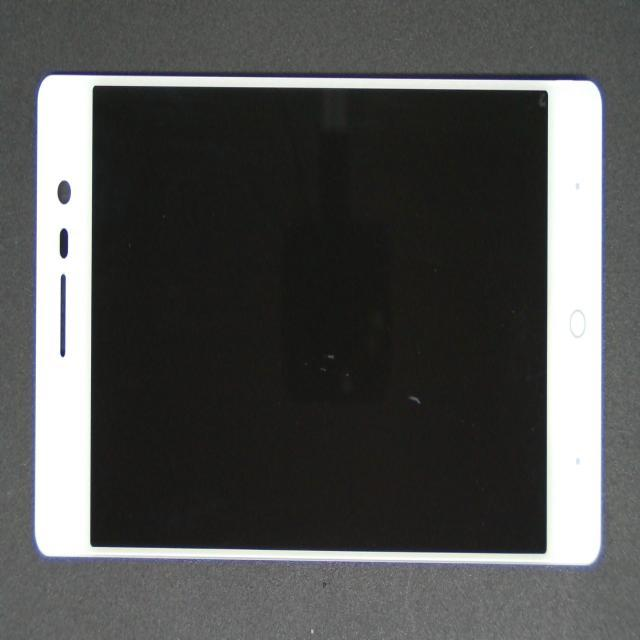scratch: (320, 338, 358, 388), (396, 377, 431, 421)
